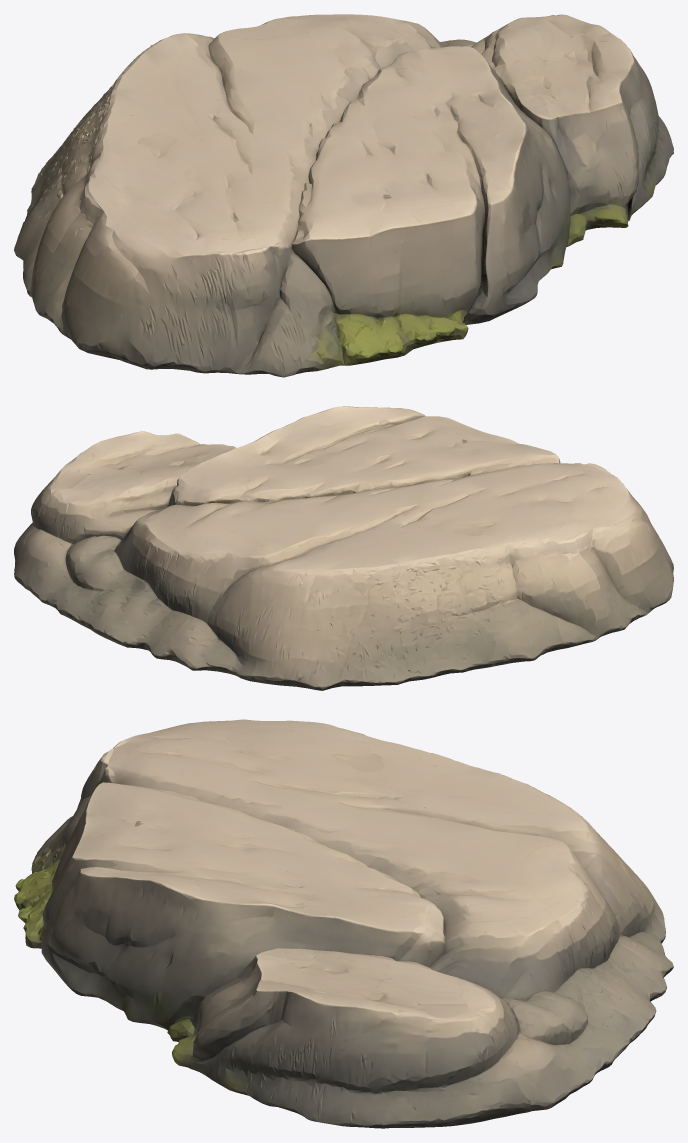
The model's file is boulder-3-lit.glb.
3 renders of one model, top to bottom at view 1: azimuth 30°, elevation 25°; view 2: azimuth 150°, elevation 25°; view 3: azimuth 270°, elevation 25°, orthographic. The views are drawn at different scales.
Visible parts, largest first — view 1: model; view 2: model; view 3: model.
Part boxes in pixels (left/top/right/bottom): model: left=14, top=14, right=673, bottom=377; model: left=14, top=406, right=673, bottom=690; model: left=14, top=719, right=673, bottom=1128.
Size of the model in its own units: 1.9 by 0.331 by 1.58.
1 material, 1 textured.
